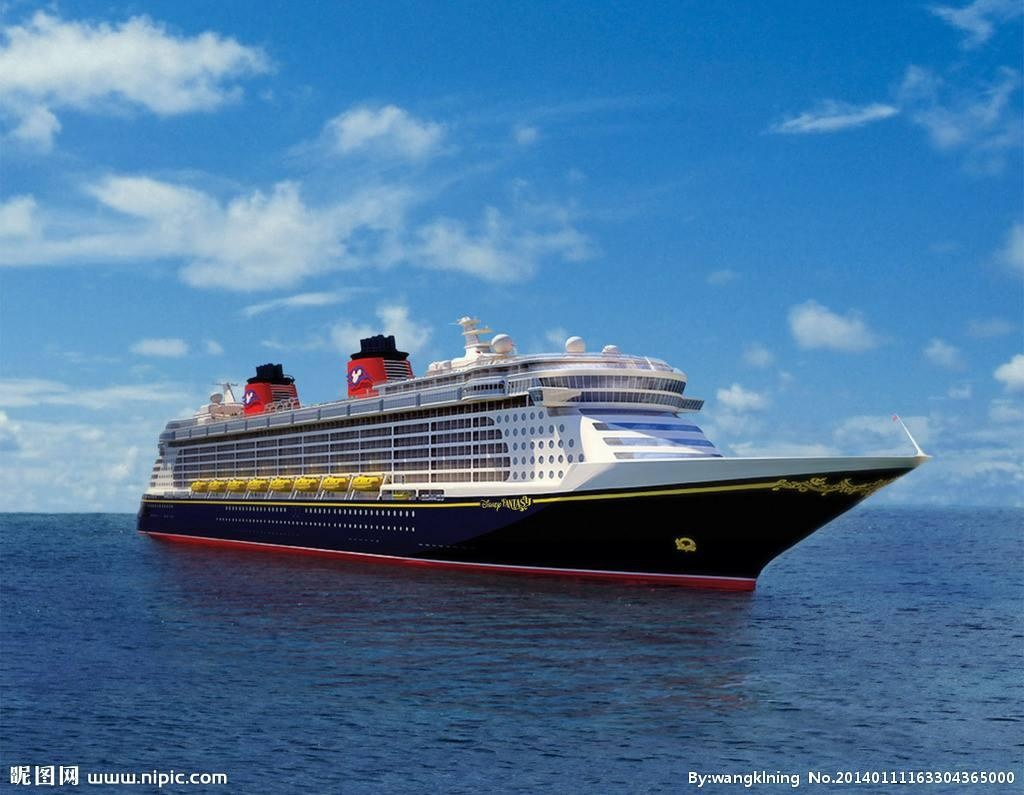youlun: (129, 324, 933, 599)
